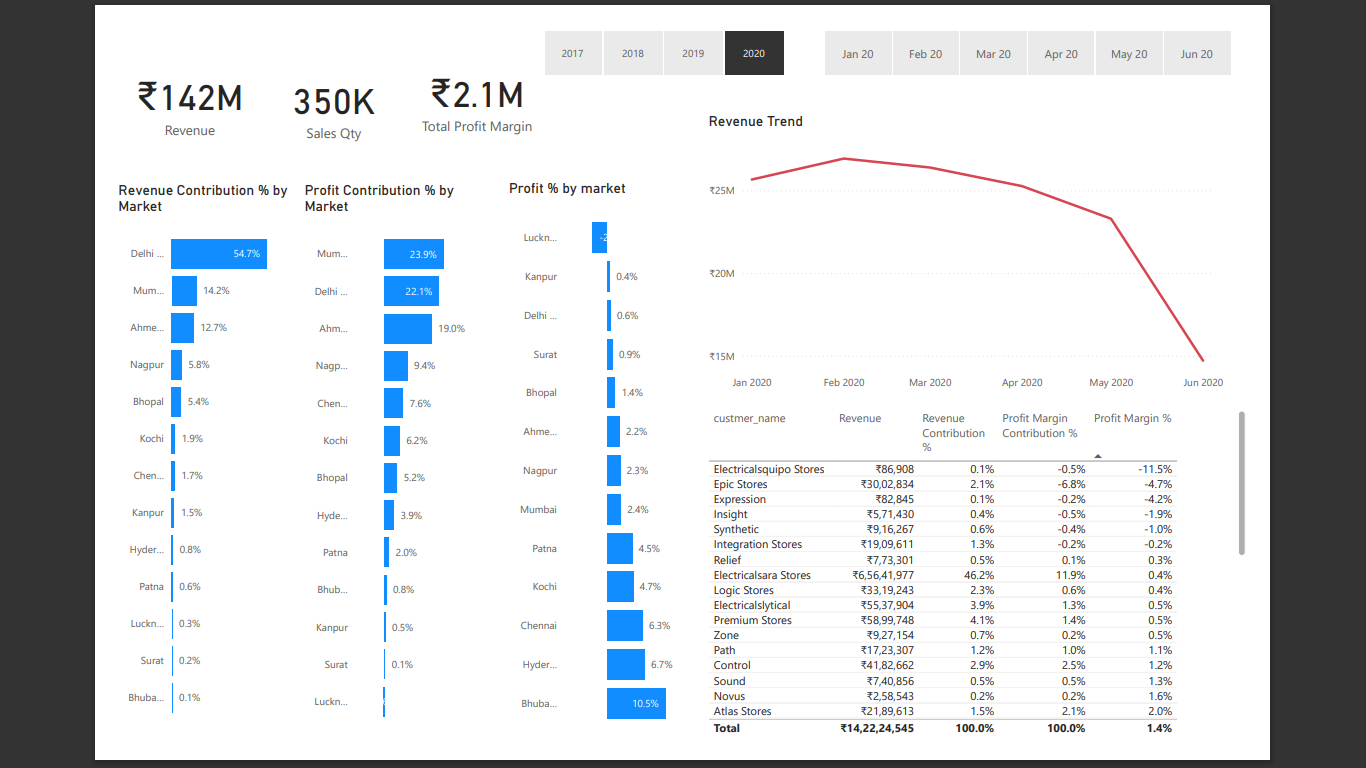

This screenshot's page, from the dashboard's own definition file:
{"tool":"powerbi","page":{"name":"Profit Analysis","canvas":[1350,850],"ordinal":1},"visuals":[{"type":"card","fields":{"Values":["BaseMeasures (2).Revenue"]},"box":[0,0,179.6,184.8],"z":0},{"type":"card","fields":{"Values":["BaseMeasures (2).Sales Qty"]},"box":[179.6,0,164.1,193],"z":1000},{"type":"barChart","title":"Profit % by market","fields":{"Y":["BaseMeasures (2).Profit Margin %"],"Category":["sales markets.markets_name"]},"box":[464.5,184.8,230.2,664.8],"z":2000},{"type":"barChart","title":"Profit Contribution % by Market","fields":{"Y":["BaseMeasures (2).Profit Margin Contribution %"],"Category":["sales markets.markets_name"]},"box":[221.9,185.8,208.5,659.6],"z":3000},{"type":"slicer","fields":{"Values":["sales date.year"]},"box":[483.2,0,335.5,66.5],"z":4000},{"type":"slicer","fields":{"Values":["sales date.cy_date"]},"box":[818.6,0,531.7,66.5],"z":5000},{"type":"tableEx","title":"Top 5 Customers","fields":{"Values":["sales customers.custmer_name","BaseMeasures (2).Revenue","BaseMeasures (2).Revenue Contribution %","BaseMeasures (2).Profit Margin Contribution %","BaseMeasures (2).Profit Margin %"]},"box":[701.9,454.2,648.3,395.4],"z":6000},{"type":"lineChart","title":"Revenue Trend","fields":{"Y":["BaseMeasures (2).Revenue"],"Category":["sales date.cy_date"]},"box":[701.9,104.3,621.4,338.6],"z":7000},{"type":"card","fields":{"Values":["BaseMeasures (2).Total Profit Margin"]},"box":[349.9,0,161,176.5],"z":8000},{"type":"barChart","title":"Revenue Contribution % by Market","fields":{"Y":["BaseMeasures (2).Revenue Contribution %"],"Category":["sales markets.markets_name"]},"box":[0,185.8,219.9,654.5],"z":9000}]}

Visuals, with their boxes on the page's 1350x850 design canvas (x1, y1, x2, y2). These are canvas units, not pixel positions in the 1366x768 screenshot, which may show the page scaled, cropped or inside an application window:
card - BaseMeasures (2).Revenue: (left=0, top=0, right=180, bottom=185)
card - BaseMeasures (2).Sales Qty: (left=180, top=0, right=344, bottom=193)
"Profit % by market" barChart: (left=464, top=185, right=695, bottom=850)
"Profit Contribution % by Market" barChart: (left=222, top=186, right=430, bottom=845)
slicer - sales date.year: (left=483, top=0, right=819, bottom=66)
slicer - sales date.cy_date: (left=819, top=0, right=1350, bottom=66)
"Top 5 Customers" tableEx: (left=702, top=454, right=1350, bottom=850)
"Revenue Trend" lineChart: (left=702, top=104, right=1323, bottom=443)
card - BaseMeasures (2).Total Profit Margin: (left=350, top=0, right=511, bottom=176)
"Revenue Contribution % by Market" barChart: (left=0, top=186, right=220, bottom=840)
